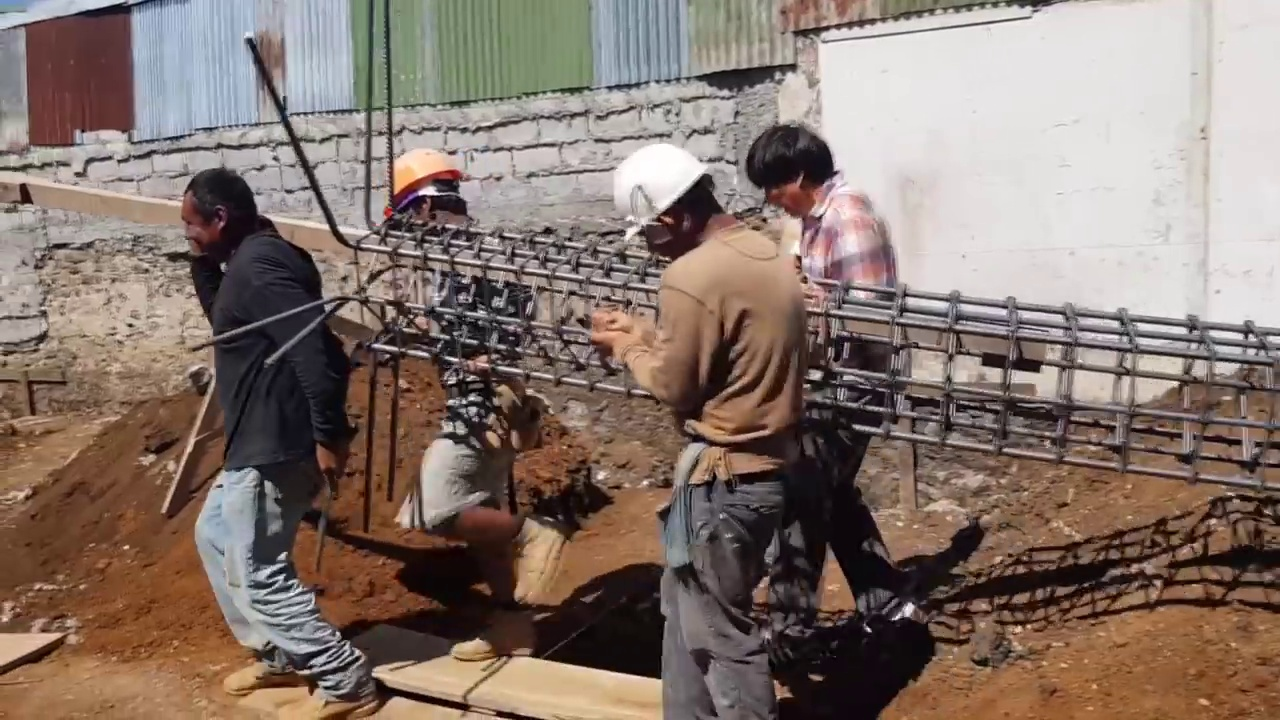helmet: (610, 140, 711, 244), (384, 142, 465, 207)
helmet-off: (746, 125, 837, 224), (178, 166, 261, 264)
helmet-on: (612, 136, 748, 258), (382, 138, 469, 225)
person: (583, 141, 806, 714), (178, 164, 376, 718), (381, 137, 573, 659), (746, 122, 927, 642)
